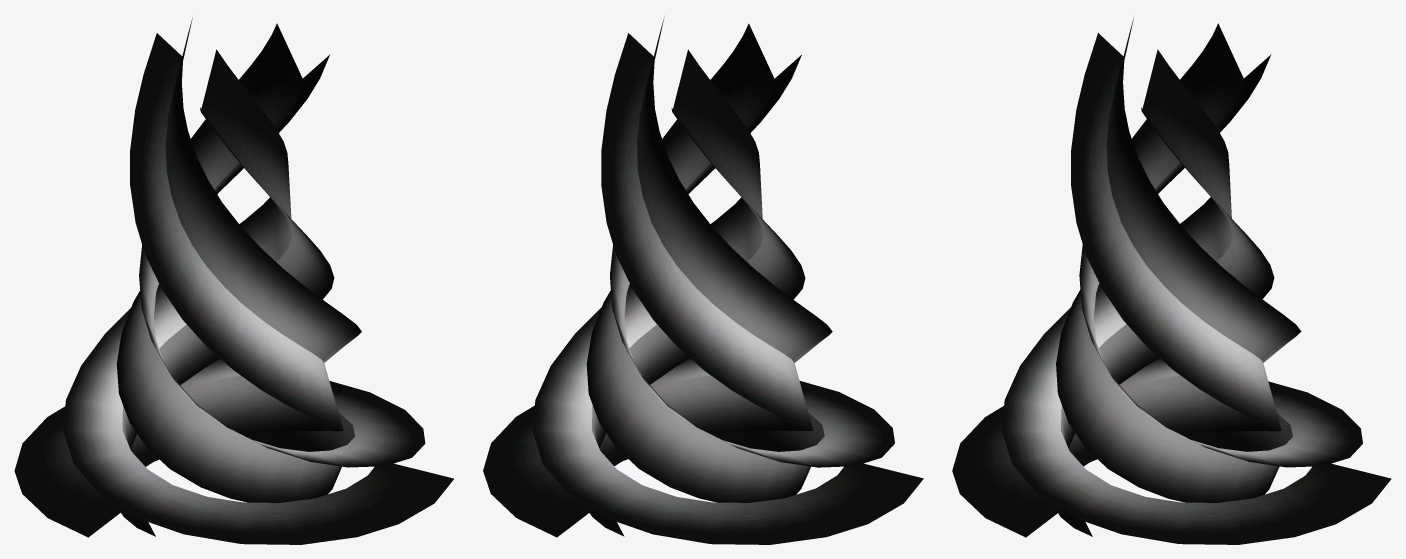
Rendered from vfx_kurp_0030.dae.
The picture shows the model from 3 angles, left to right: view 1: azimuth 30°, elevation 25°; view 2: azimuth 150°, elevation 25°; view 3: azimuth 270°, elevation 25°; orthographic projection.
Visible parts, largest first — view 1: vfx_kurp_0030; view 2: vfx_kurp_0030; view 3: vfx_kurp_0030.
Boxes of the visible parts, left/top/right/bottom form: vfx_kurp_0030: left=14, top=18, right=453, bottom=544; vfx_kurp_0030: left=483, top=17, right=923, bottom=544; vfx_kurp_0030: left=952, top=17, right=1391, bottom=544.
Size of the model in its own units: 11.52 by 11.8 by 13.81.
Materials: 1 (1 with a texture image).
